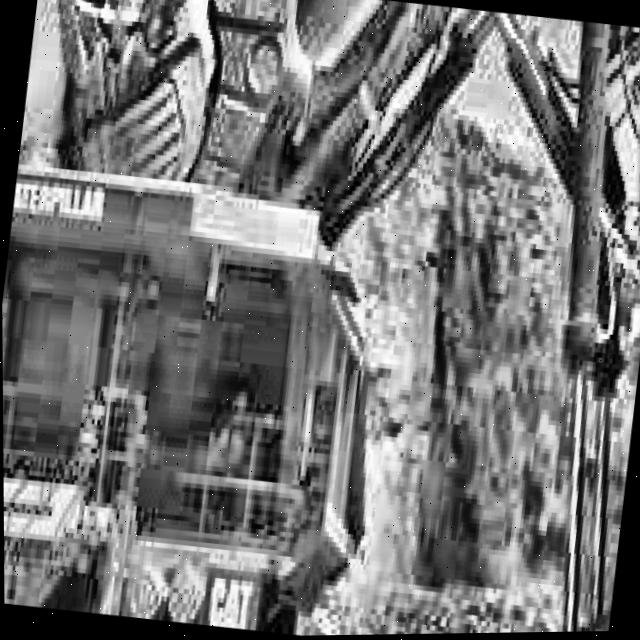dump_truck: (1, 100, 486, 640)
